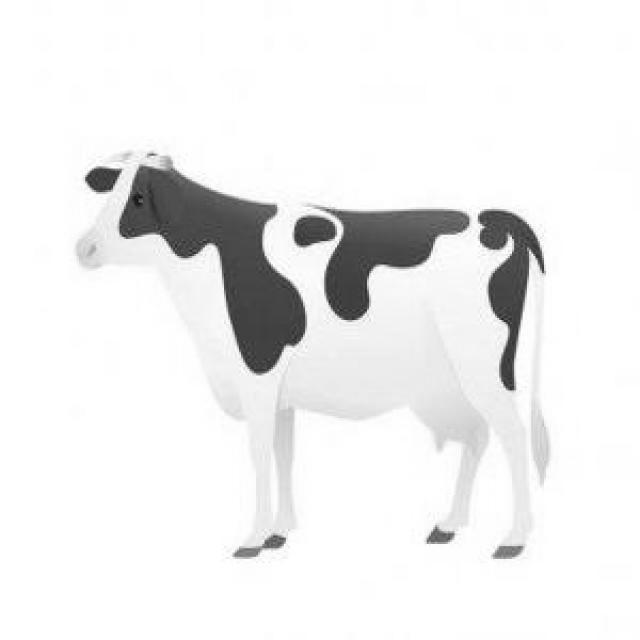cow: (78, 152, 549, 557)
